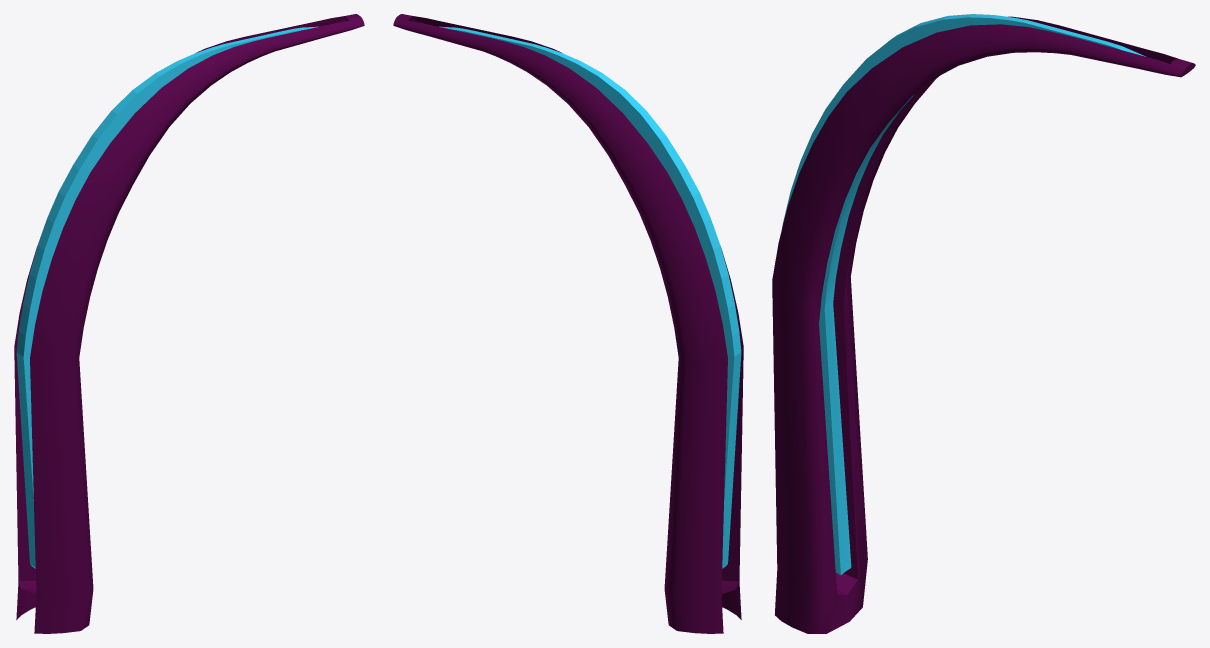
The model's file is Support Arch 6.FBX.
3 renders of one model, left to right at view 1: azimuth 30°, elevation 25°; view 2: azimuth 150°, elevation 25°; view 3: azimuth 330°, elevation 25°, orthographic. The views are drawn at different scales.
Parts seen in each view (by area): view 1: Torus015; view 2: Torus015; view 3: Torus015.
Boxes of the visible parts, x1,y1,x2,y2 form: Torus015: [14, 14, 364, 633]; Torus015: [393, 14, 743, 633]; Torus015: [772, 14, 1195, 633].
Bounding box in the file's own units: 17.56 × 26.38 × 3.35.
